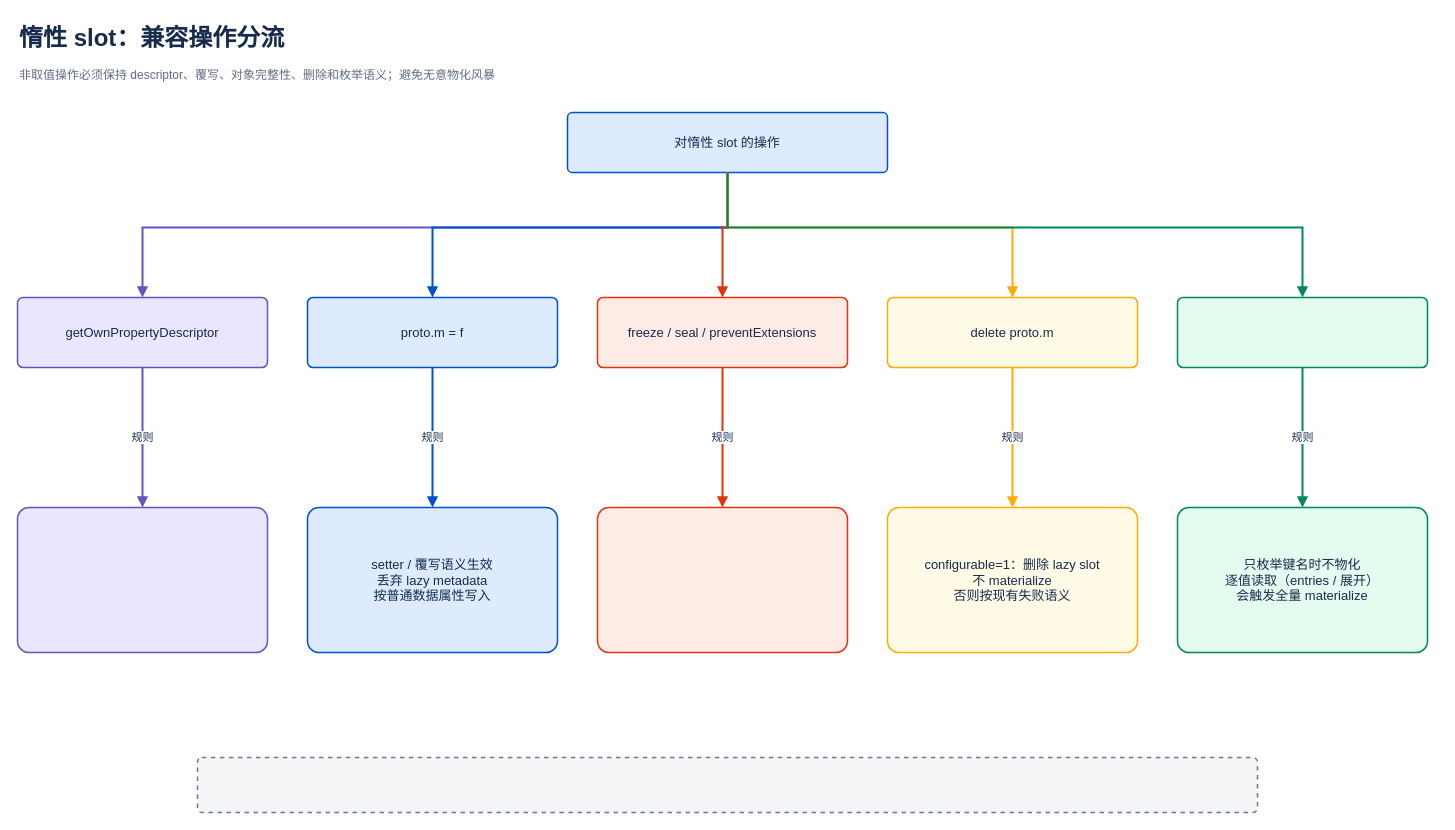
The diagram is 1455 pixels wide and 830 high, and some of its shapes have lost their labels. Each missing label, with the centre of its shape:
"for..in / Object.keys / entries" belongs at point (1302, 332).
"全部 materialize 后执行 风暴场景，见 R5" belongs at point (722, 579).
"兼容性原则：观察属性元数据不应等同于读取属性值；仅确实需要 value 的操作触发物化。" belongs at point (727, 784).
"按 descriptor 元数据合成数据属性描述符 或 materialize 避免能力探测触发物化" belongs at point (142, 579).
